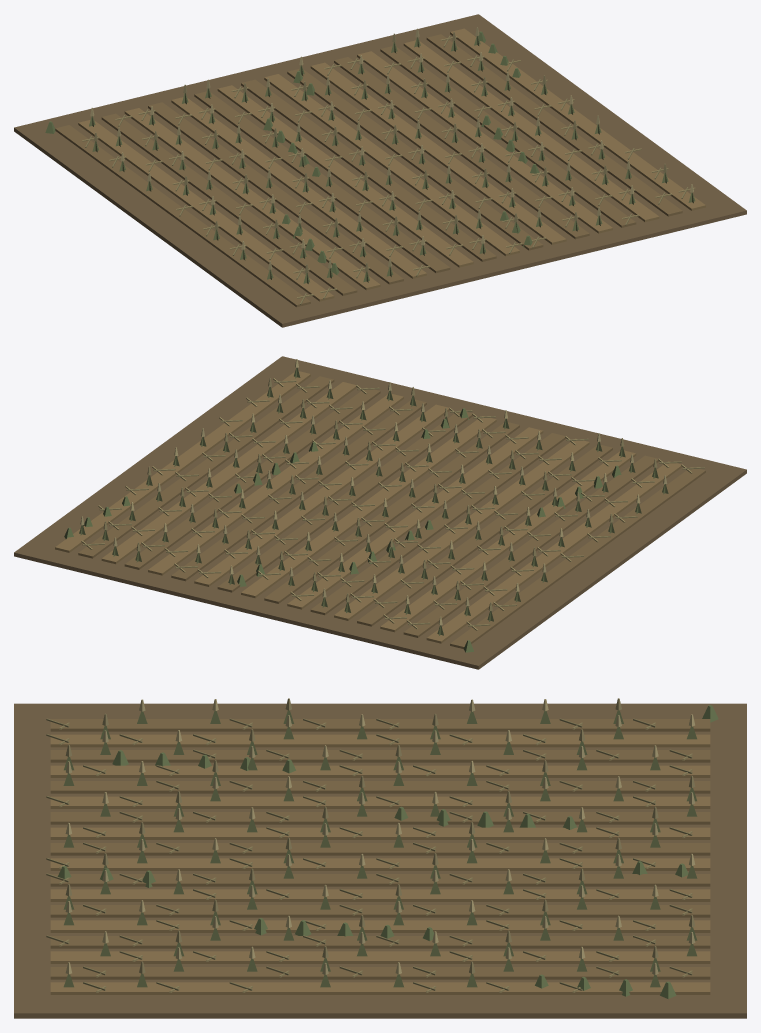
File: wheatfield-abandoned.glb
The picture shows the model from 3 angles, top to bottom: view 1: azimuth 30°, elevation 25°; view 2: azimuth 150°, elevation 25°; view 3: azimuth 270°, elevation 25°; orthographic projection. The views are drawn at different scales.
Visible parts, largest first — view 1: wheatfield-abandoned; view 2: wheatfield-abandoned; view 3: wheatfield-abandoned.
Part boxes in pixels (<box>): wheatfield-abandoned: <box>14,14,746,327</box>; wheatfield-abandoned: <box>14,356,746,669</box>; wheatfield-abandoned: <box>14,698,746,1018</box>.
Size of the model in its own units: 20 by 1.01 by 20.
